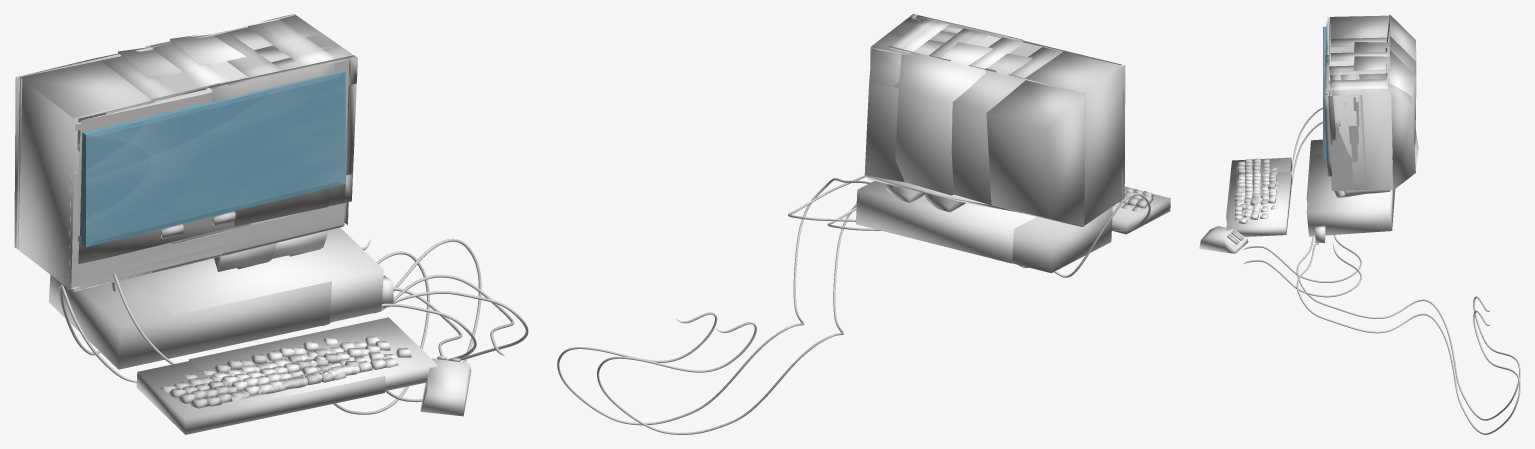
Rendered from mac3.fbx.
3 views of the same model, side by side, from view 1: azimuth 30°, elevation 25°; view 2: azimuth 150°, elevation 25°; view 3: azimuth 270°, elevation 25° (orthographic). The views are drawn at different scales.
Parts seen in each view (by area): view 1: mac.obj, mac.obj.001, Cube; view 2: mac.obj, mac.obj.001; view 3: mac.obj, mac.obj.001, Cube.
Boxes of the visible parts, x1,y1,x2,y2 form: mac.obj: (14,14,476,434); mac.obj.001: (111,18,528,406); Cube: (78,70,345,246); mac.obj: (597,14,1170,434); mac.obj.001: (557,18,1125,425); mac.obj: (1199,14,1520,420); mac.obj.001: (1226,50,1520,434); Cube: (1323,26,1326,160).
Size of the model in its own units: 8484 by 6851 by 7152.
